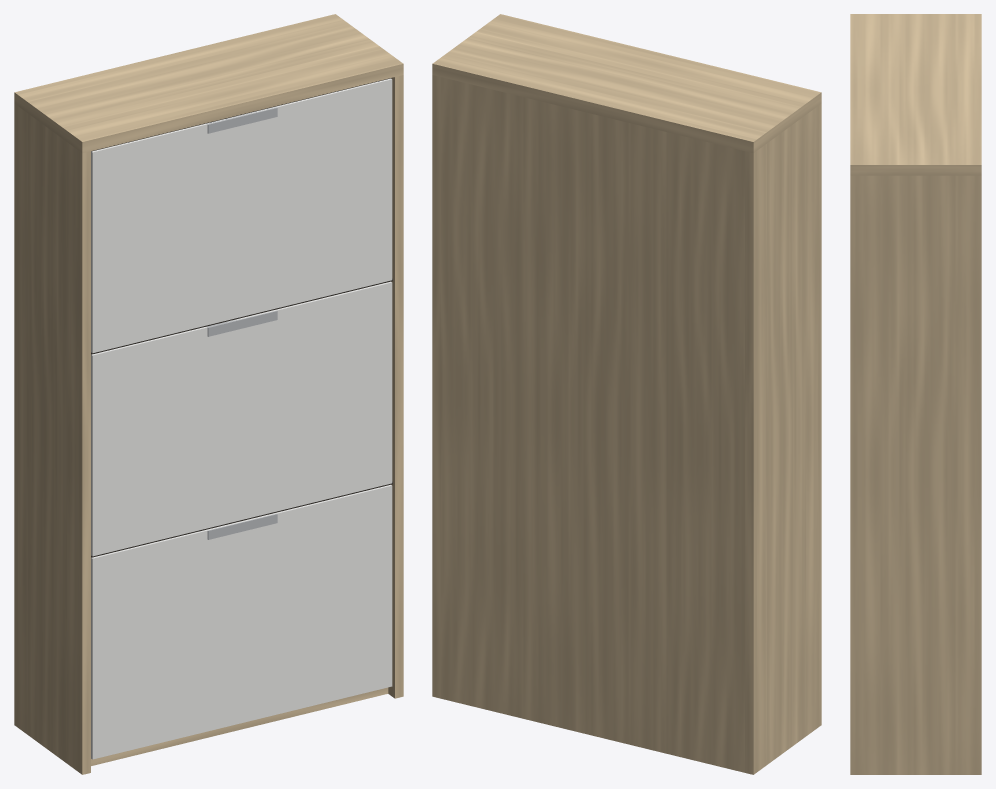
File: zapatero.glb
The picture shows the model from 3 angles, left to right: view 1: azimuth 30°, elevation 25°; view 2: azimuth 150°, elevation 25°; view 3: azimuth 270°, elevation 25°; orthographic projection. The views are drawn at different scales.
Visible parts, largest first — view 1: zapatero; view 2: zapatero; view 3: zapatero.
Part boxes in pixels (x1,y1,x2,y2): zapatero: [14, 14, 403, 774]; zapatero: [432, 14, 821, 774]; zapatero: [850, 14, 981, 774].
Size of the model in its own units: 0.6 by 1.13 by 0.22.
Materials: 4 (1 with a texture image).
